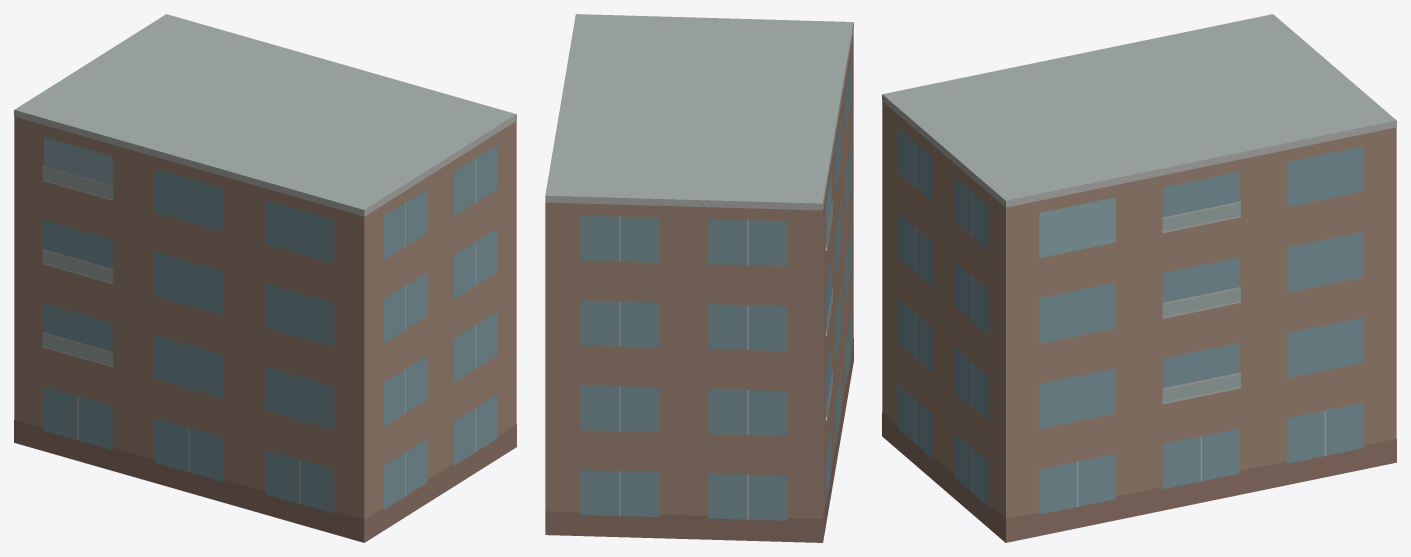
Rendered from survey-upis-32739921.glb.
3 renders of one model, left to right at view 1: azimuth 30°, elevation 25°; view 2: azimuth 150°, elevation 25°; view 3: azimuth 270°, elevation 25°, orthographic. The views are drawn at different scales.
Visible parts, largest first — view 1: survey-upis-32739921.tmp; view 2: survey-upis-32739921.tmp; view 3: survey-upis-32739921.tmp.
Part boxes in pixels (box(x1,y1,x2,y2)): survey-upis-32739921.tmp: box(14, 14, 516, 542); survey-upis-32739921.tmp: box(545, 14, 853, 542); survey-upis-32739921.tmp: box(882, 14, 1396, 542).
Bounding box in the file's own units: 14.3 × 12.2 × 16.64.
